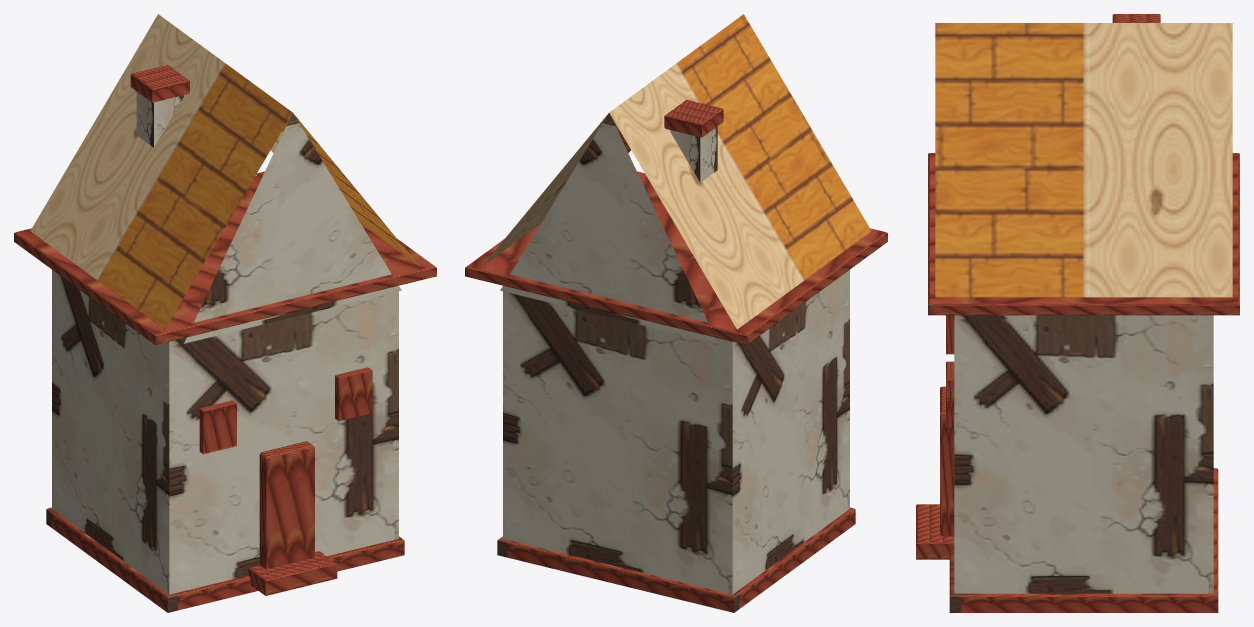
File: town_hall.obj
The picture shows the model from 3 angles, left to right: view 1: azimuth 30°, elevation 25°; view 2: azimuth 150°, elevation 25°; view 3: azimuth 270°, elevation 25°; orthographic projection. The views are drawn at different scales.
Parts seen in each view (by area): view 1: TownHall; view 2: TownHall; view 3: TownHall.
Boxes of the visible parts, x1=… form: TownHall: x1=14, y1=14, x2=436, y2=612; TownHall: x1=465, y1=14, x2=887, y2=612; TownHall: x1=916, y1=14, x2=1239, y2=612.
Size of the model in its own units: 1.5 by 2.42 by 1.35.
Materials: 1 (1 with a texture image).
